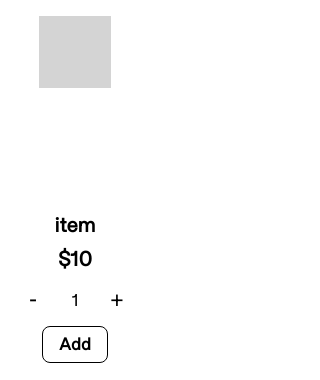
it: decrement btn works as expected › decreases the amount
Expected: the field holds "1", [57, 284, 93, 318]
Click the button "-": [33, 297] box [17, 281, 49, 313]
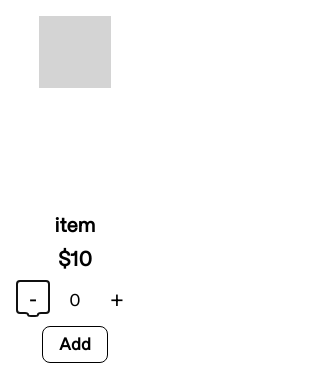
Now the field holds "0", box [57, 284, 93, 318]
